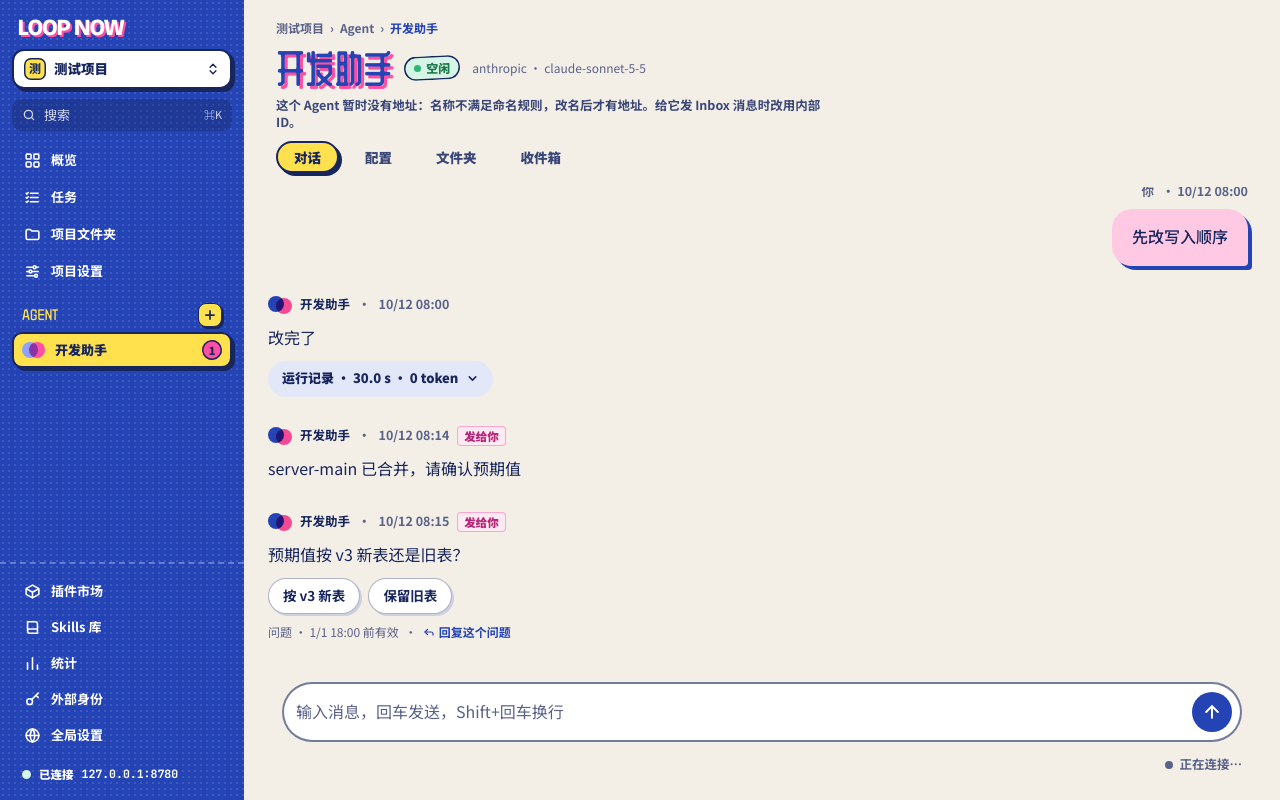
Test: Agent 对话里发给你的消息 › “回复这个问题”让输入框进入回复模式：文字作为这条原题的回答发出，不发普通对话消息；取消后回到普通发送
(page scrolled)
expect the element named "对话" is shown: met, box x1=268 y1=187 x2=1256 y2=666
Step 1. Click the button "回复这个问题" → click(467, 632), box x1=423 y1=622 x2=511 y2=642
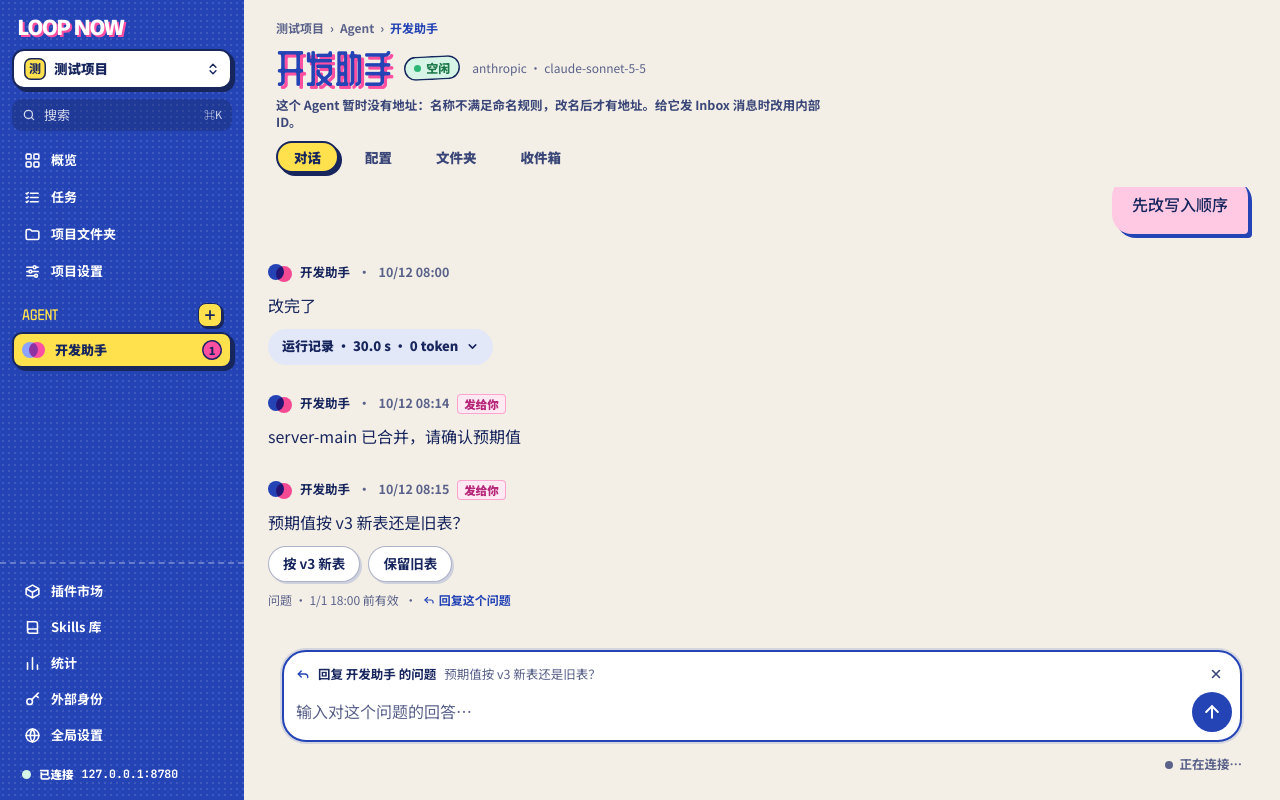
expect the text "回复 开发助手 的问题" is shown: met, box x1=318 y1=664 x2=436 y2=684
Step 2. Click the button named "取消回复这个问题" → click(1216, 674), box x1=1204 y1=662 x2=1228 y2=686
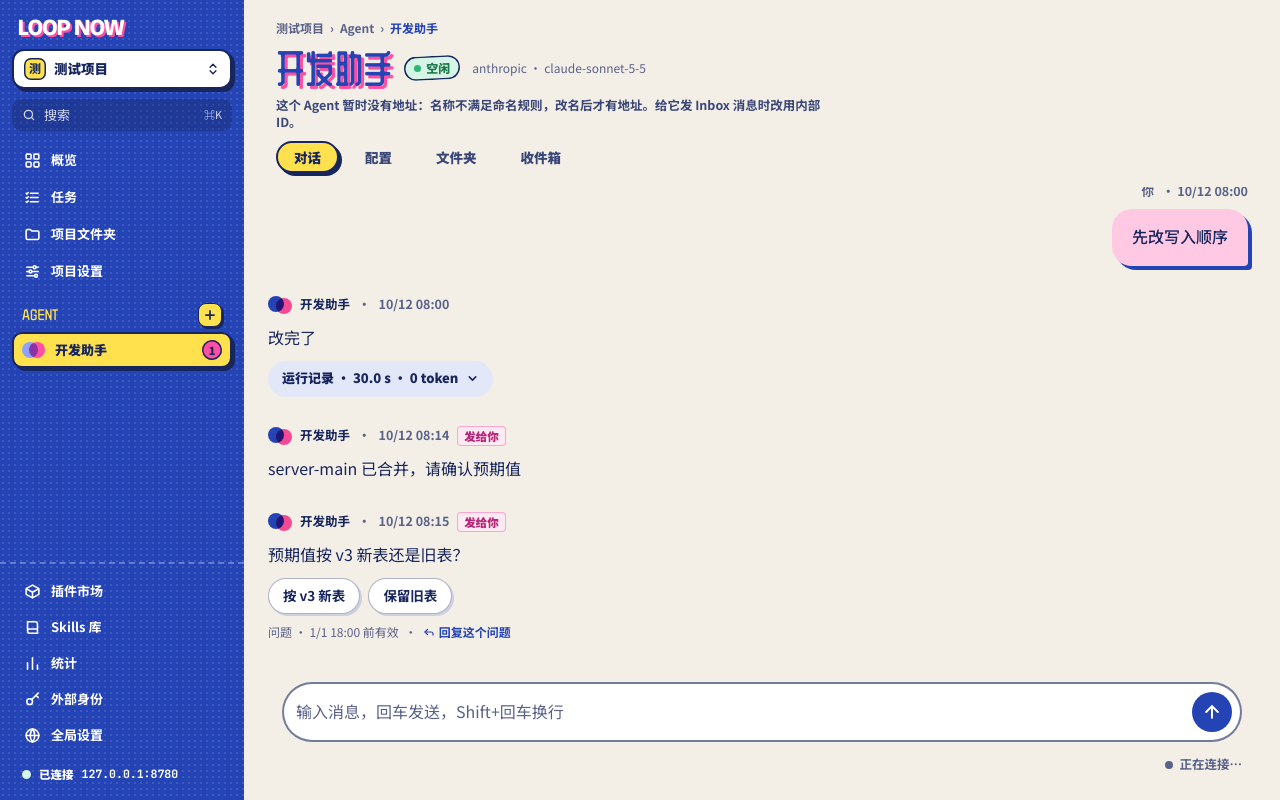
expect the text "回复 开发助手 的问题" is gone: met
Step 3. Click the button "回复这个问题" → click(467, 632), box x1=423 y1=622 x2=511 y2=642
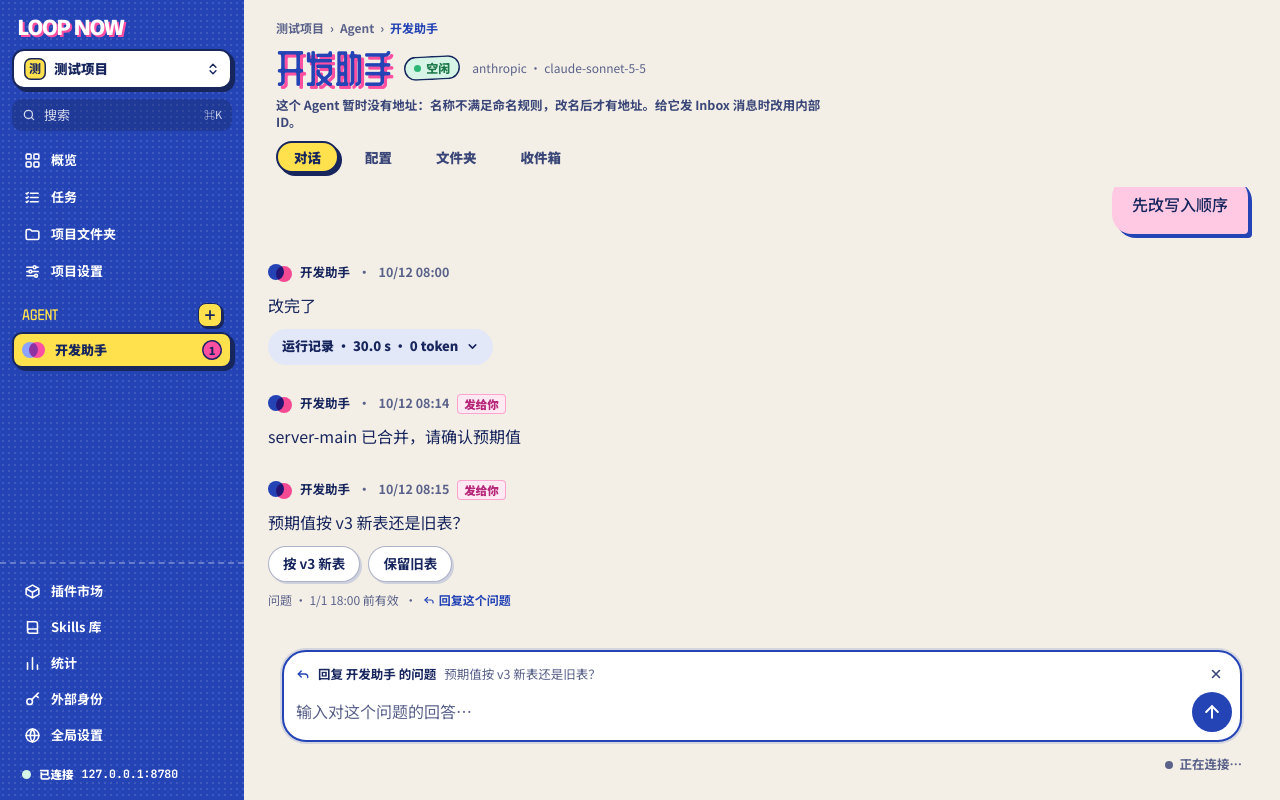
Step 4. Type "按旧表，先别动定价" into the text box named "消息" → (738, 712), box x1=292 y1=692 x2=1184 y2=732
Then press Enter
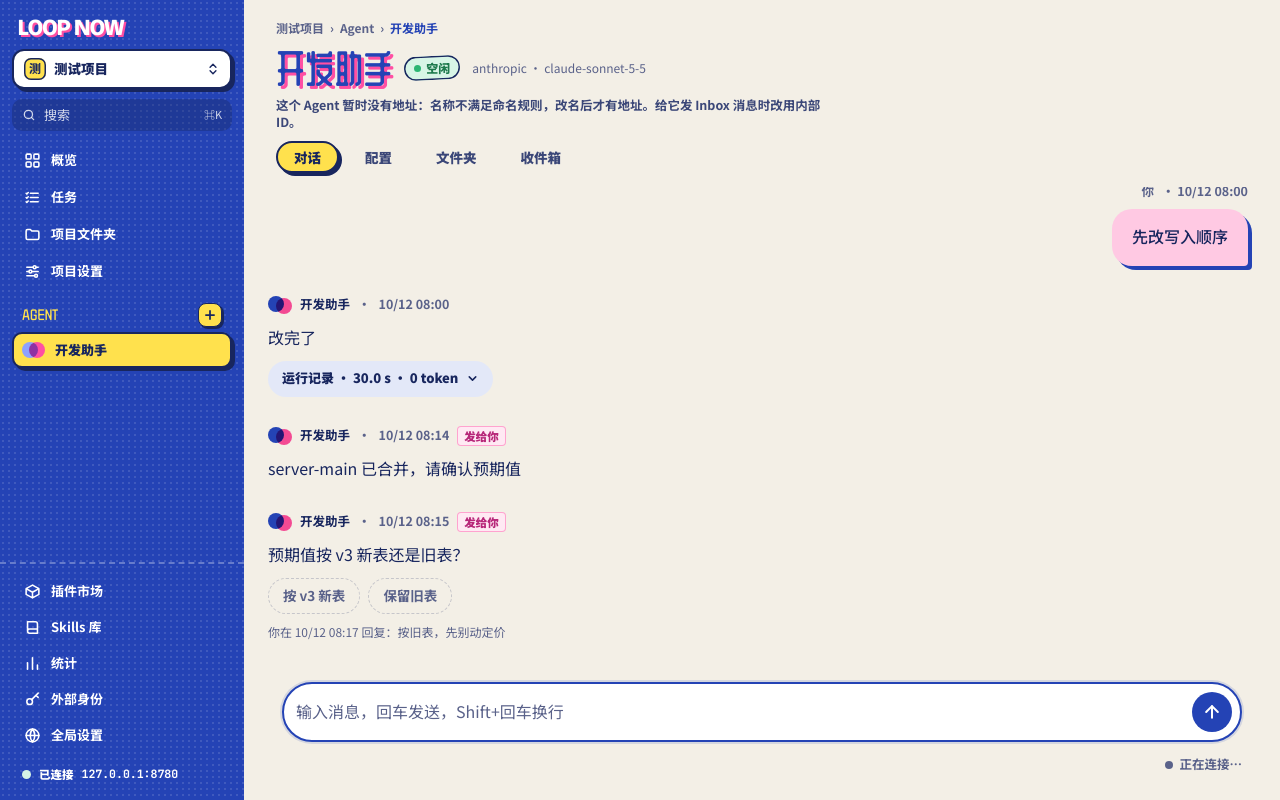
expect the text "回复 开发助手 的问题" is gone: met
